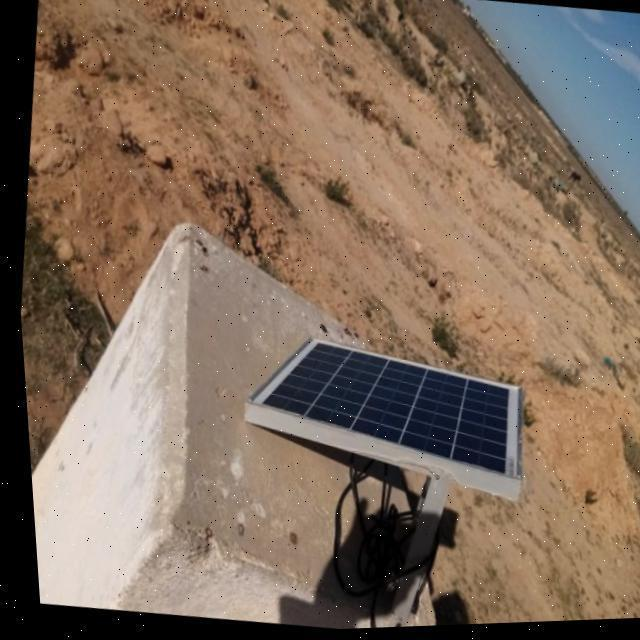Normal Solar Panel: (230, 327, 528, 492)
